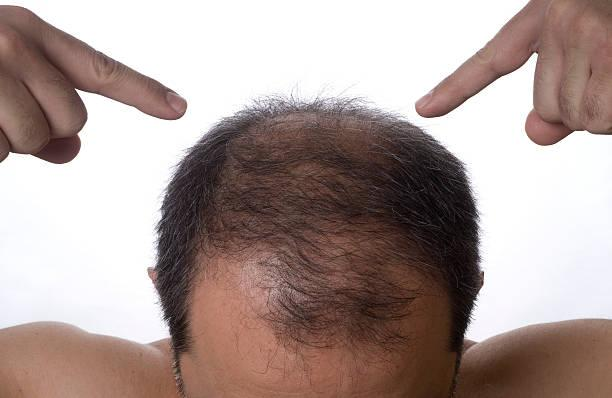low hair density: (204, 169, 434, 203), (198, 216, 460, 244), (246, 112, 394, 156), (274, 257, 453, 275)
